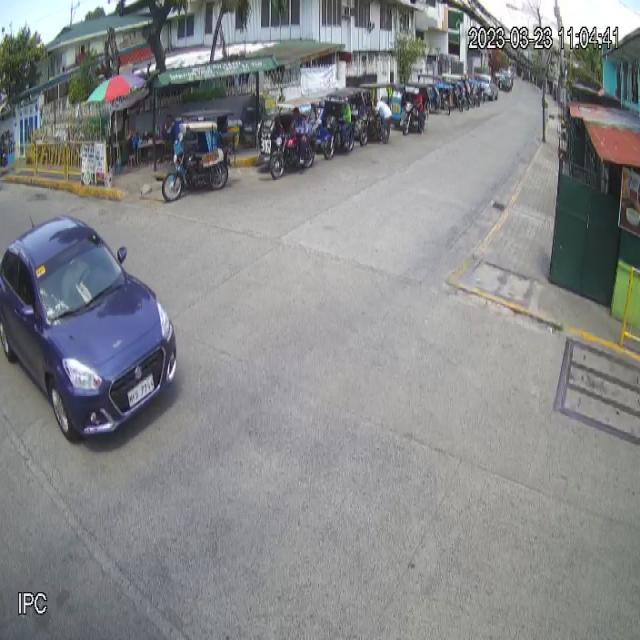Car: (0, 213, 178, 442)
